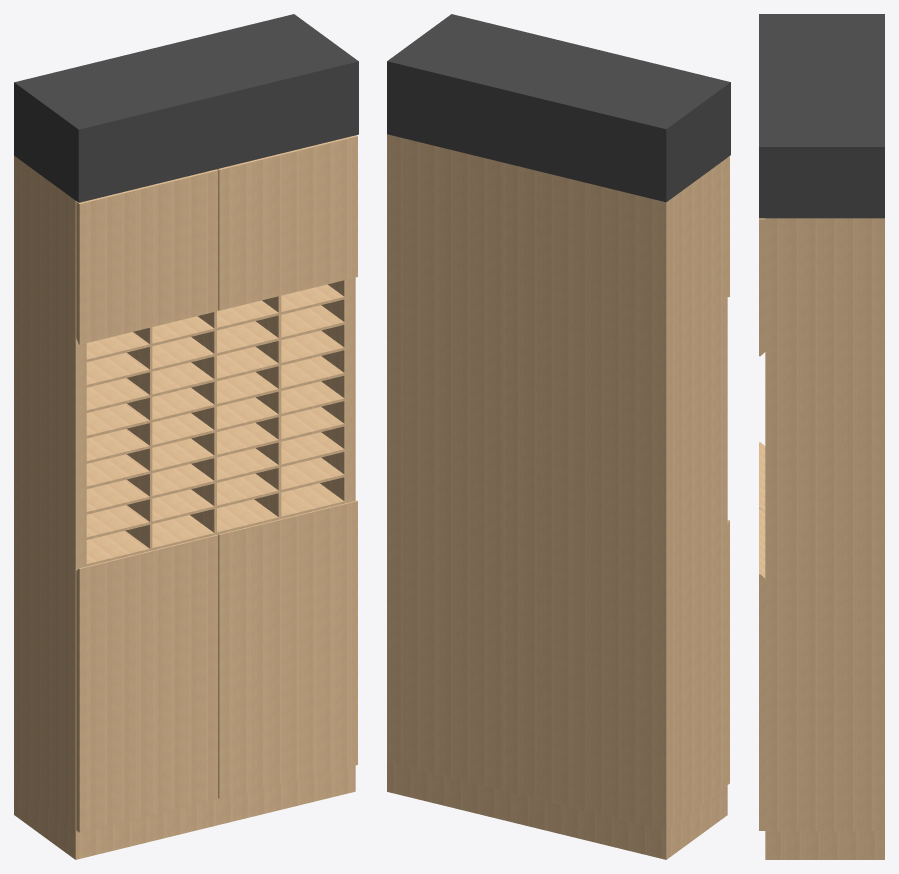
The picture shows the model from 3 angles, left to right: view 1: azimuth 30°, elevation 25°; view 2: azimuth 150°, elevation 25°; view 3: azimuth 270°, elevation 25°; orthographic projection. The views are drawn at different scales.
Visible parts, largest first — view 1: CSW_Sunray_Cabinet_Door_Dbl_Top-Finger_Groove CSW_Sunray_Cab, Casework-Sunray_Cabinet_Carcass Cabinet_Carcass [6949013], Extrusion [6949497], CSW_Sunray_Cabinet_Door_Dbl_Bot-Finger_Groove Door_Dbl [6949, Casework-Sunray_Cabinet_Base Cabinet_Base [6948983], Extrusion [6949253], Extrusion [6949093], Extrusion [6949110], Extrusion [6949171], Extrusion [6949127], Extrusion [6949149], Extrusion [6949182] (+3 smaller); view 2: Casework-Sunray_Cabinet_Carcass Cabinet_Carcass [6949013], Extrusion [6949497], Casework-Sunray_Cabinet_Base Cabinet_Base [6948983], CSW_Sunray_Cabinet_Door_Dbl_Top-Finger_Groove CSW_Sunray_Cab; view 3: Casework-Sunray_Cabinet_Carcass Cabinet_Carcass [6949013], Extrusion [6949497], Casework-Sunray_Cabinet_Base Cabinet_Base [6948983], CSW_Sunray_Cabinet_Door_Dbl_Top-Finger_Groove CSW_Sunray_Cab, CSW_Sunray_Cabinet_Door_Dbl_Bot-Finger_Groove Door_Dbl [6949.
Part boxes in pixels (x1,y1,x2,y2): CSW_Sunray_Cabinet_Door_Dbl_Top-Finger_Groove CSW_Sunray_Cab: (76,500,357,832); Casework-Sunray_Cabinet_Carcass Cabinet_Carcass [6949013]: (14,156,355,830); Extrusion [6949497]: (14,14,358,202); CSW_Sunray_Cabinet_Door_Dbl_Bot-Finger_Groove Door_Dbl [6949: (76,135,357,344); Casework-Sunray_Cabinet_Base Cabinet_Base [6948983]: (14,765,355,859); Extrusion [6949253]: (125,296,281,548); Extrusion [6949093]: (86,483,344,566); Extrusion [6949110]: (86,457,344,539); Extrusion [6949171]: (86,330,344,412); Extrusion [6949127]: (86,432,344,514); Extrusion [6949149]: (86,381,344,463); Extrusion [6949182]: (86,305,344,387); Casework-Sunray_Cabinet_Carcass Cabinet_Carcass [6949013]: (387,134,727,830); Extrusion [6949497]: (387,14,730,202); Casework-Sunray_Cabinet_Base Cabinet_Base [6948983]: (387,762,727,859); CSW_Sunray_Cabinet_Door_Dbl_Top-Finger_Groove CSW_Sunray_Cab: (727,520,729,784); Casework-Sunray_Cabinet_Carcass Cabinet_Carcass [6949013]: (765,218,884,831); Extrusion [6949497]: (759,14,884,218); Casework-Sunray_Cabinet_Base Cabinet_Base [6948983]: (765,831,884,859); CSW_Sunray_Cabinet_Door_Dbl_Top-Finger_Groove CSW_Sunray_Cab: (759,442,765,830); CSW_Sunray_Cabinet_Door_Dbl_Bot-Finger_Groove Door_Dbl [6949: (759,218,765,356).
Size of the model in its own units: 39.37 by 98.43 by 15.75.
Materials: 3 (2 with a texture image).
